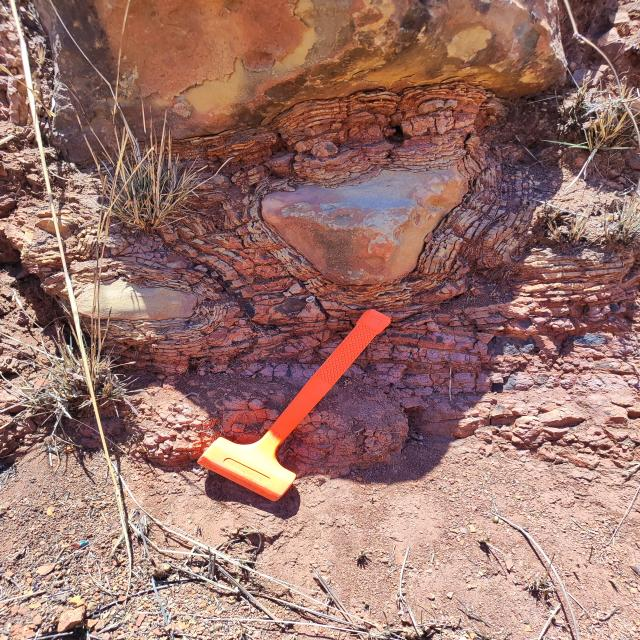Orange_hammer: (196, 308, 392, 502)
